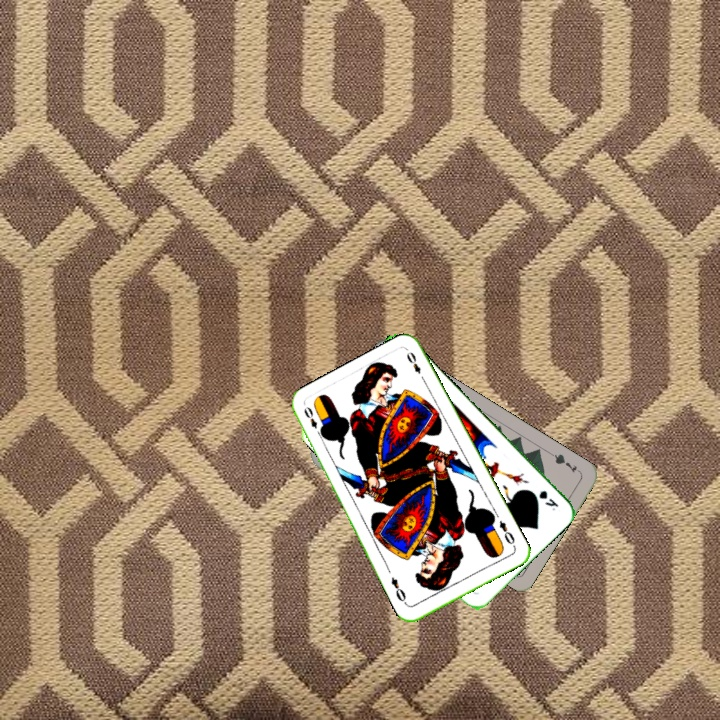EO: (495, 516, 517, 547), (300, 403, 320, 431)
G7: (546, 449, 583, 476)
GK: (535, 486, 561, 513)
